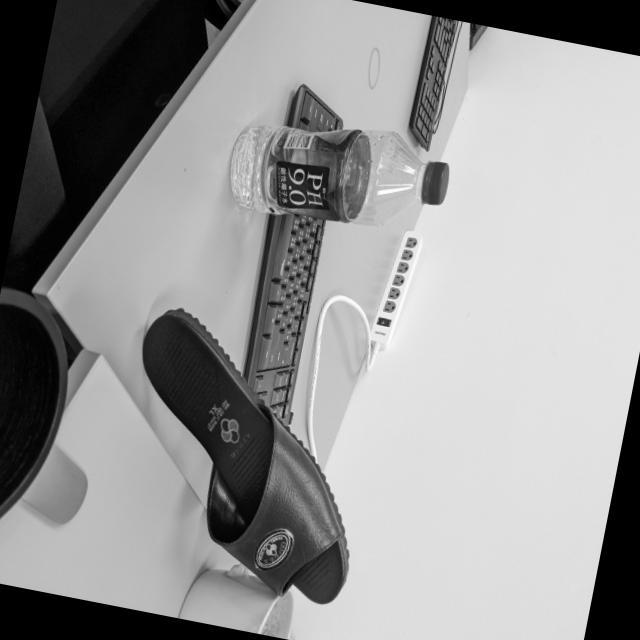good: (213, 89, 465, 268)
